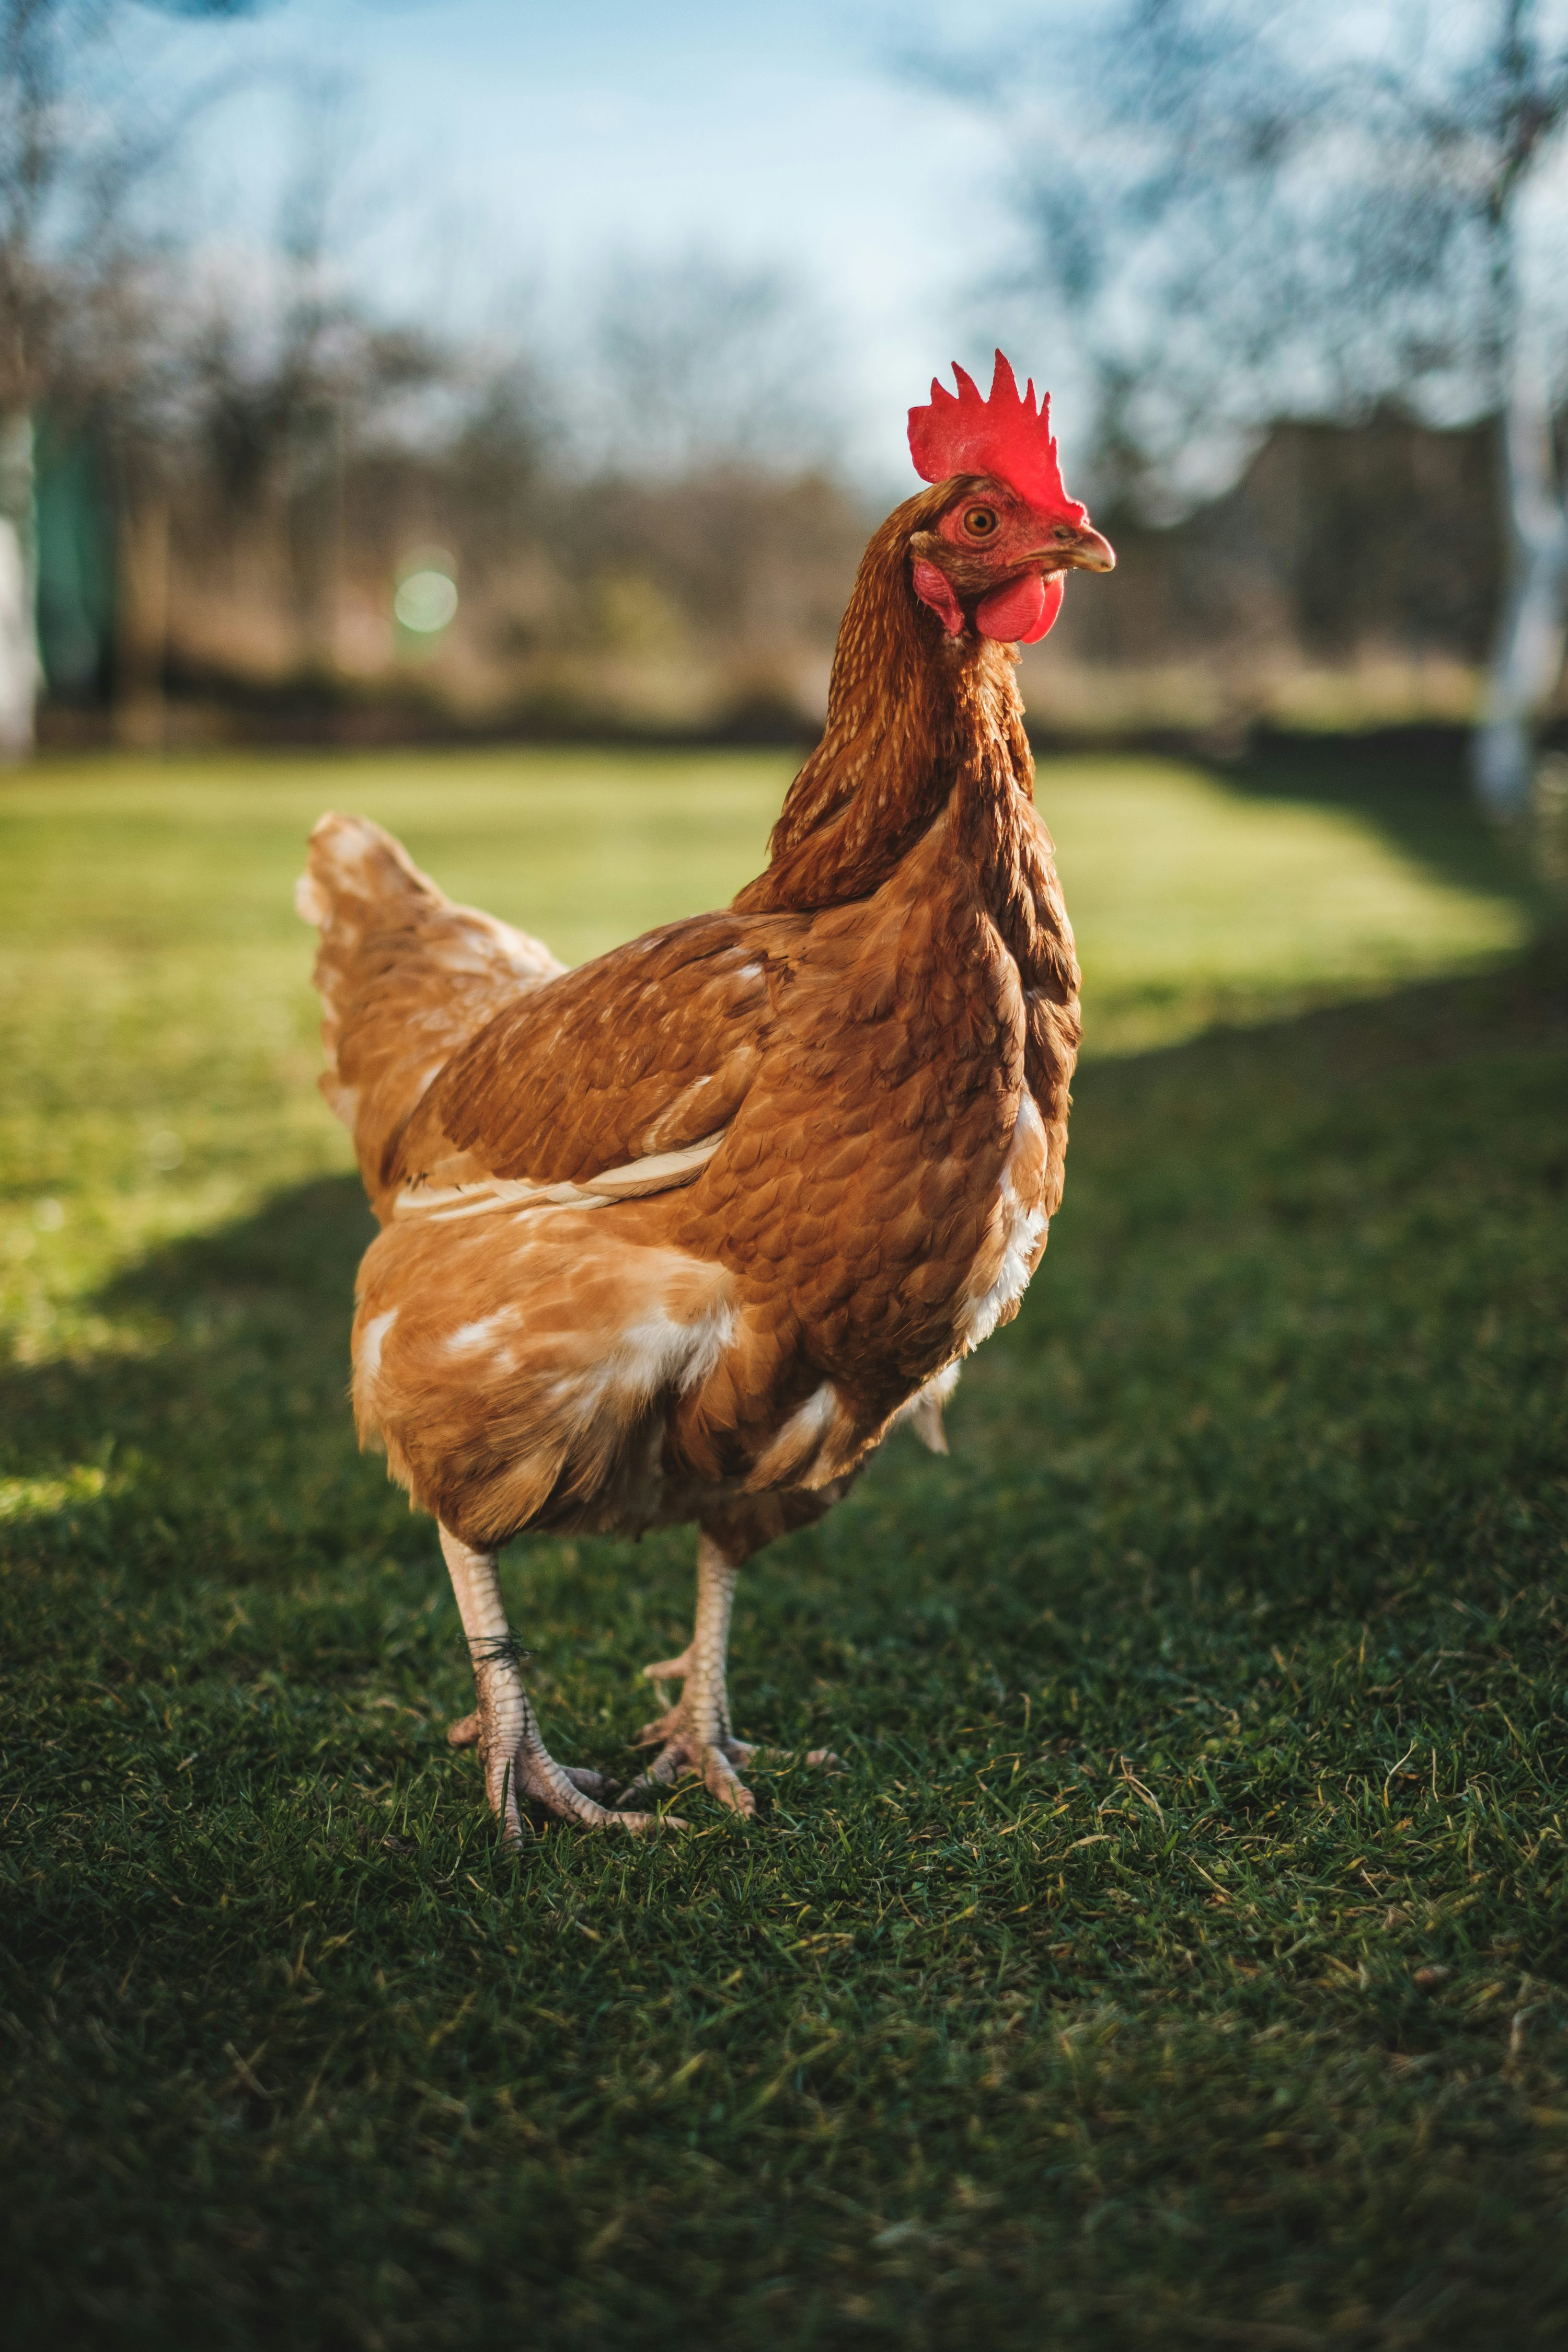Healthy: (266, 299, 1157, 1930)
